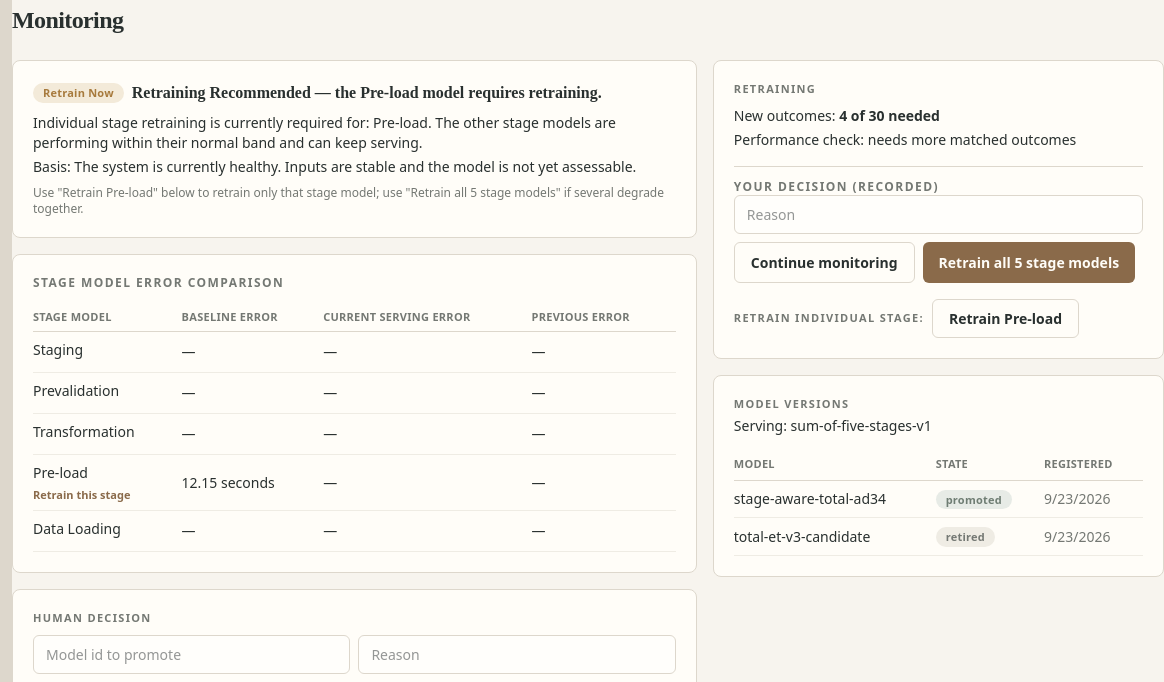
Drift & Retraining (2026-10-04 compact layout) › posts a continue-monitoring decision with reason only (no name input) and shows it in the timeline
The image size is (1164, 682).
Check: the element with test id "retraining-actions" is shown, box [734,166,1143,338]
Type "no drift observed" into the field named "Decision reason". click: (938, 214)
box: [734,194,1143,234]
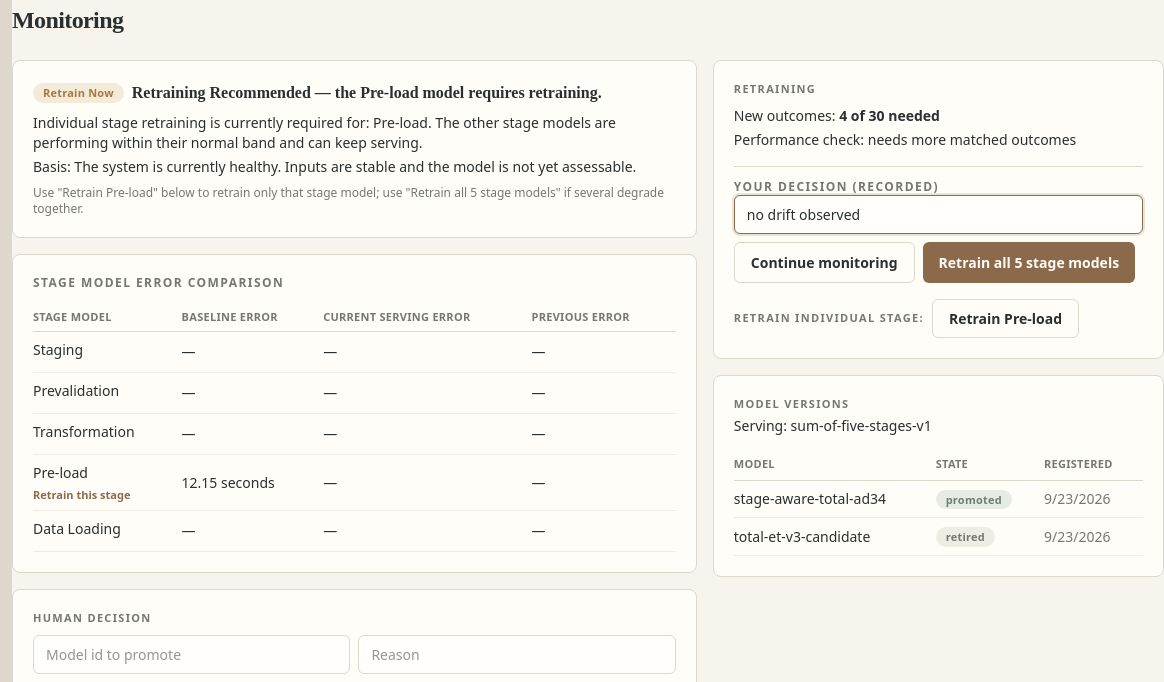
Click the button with test id "continue-monitoring-button". click: (824, 262)
box: [734,242,915,282]
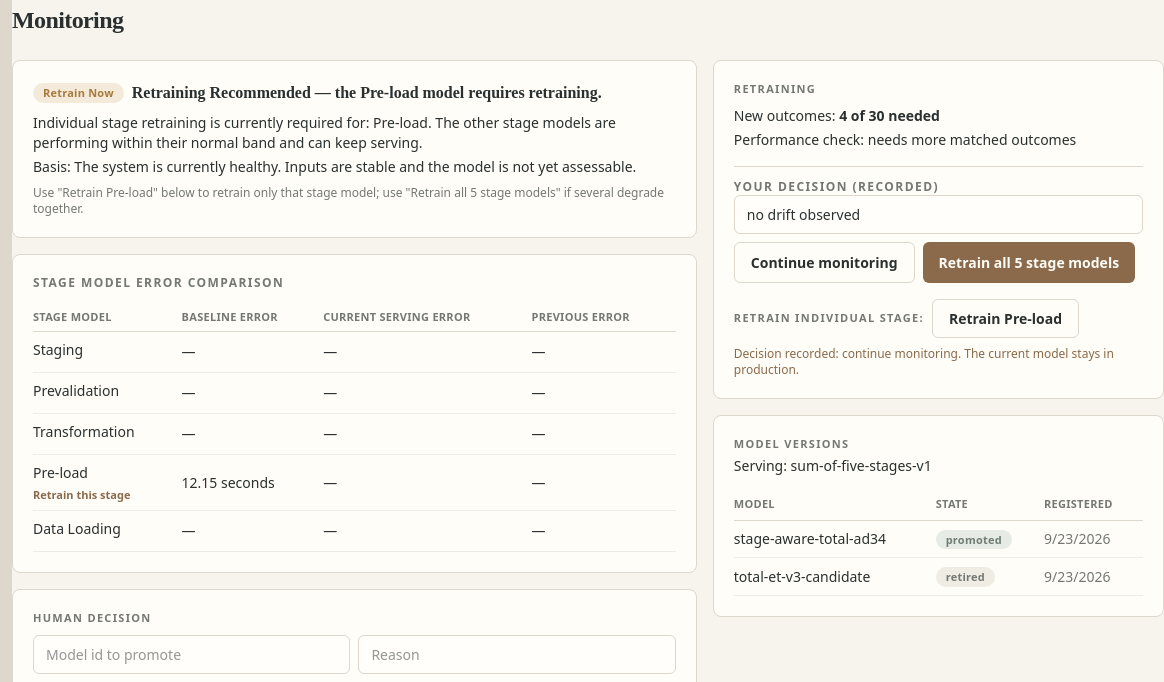
Check: the message with test id "retraining-notice" shows "continue monitoring", box [734,344,1114,378]
